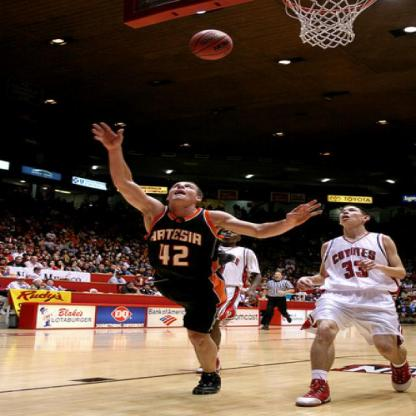basketball: (188, 29, 232, 62)
rim: (280, 0, 376, 12)
